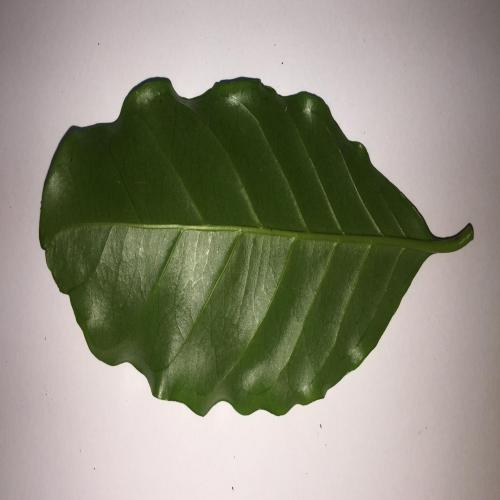leaf: (34, 59, 480, 426)
